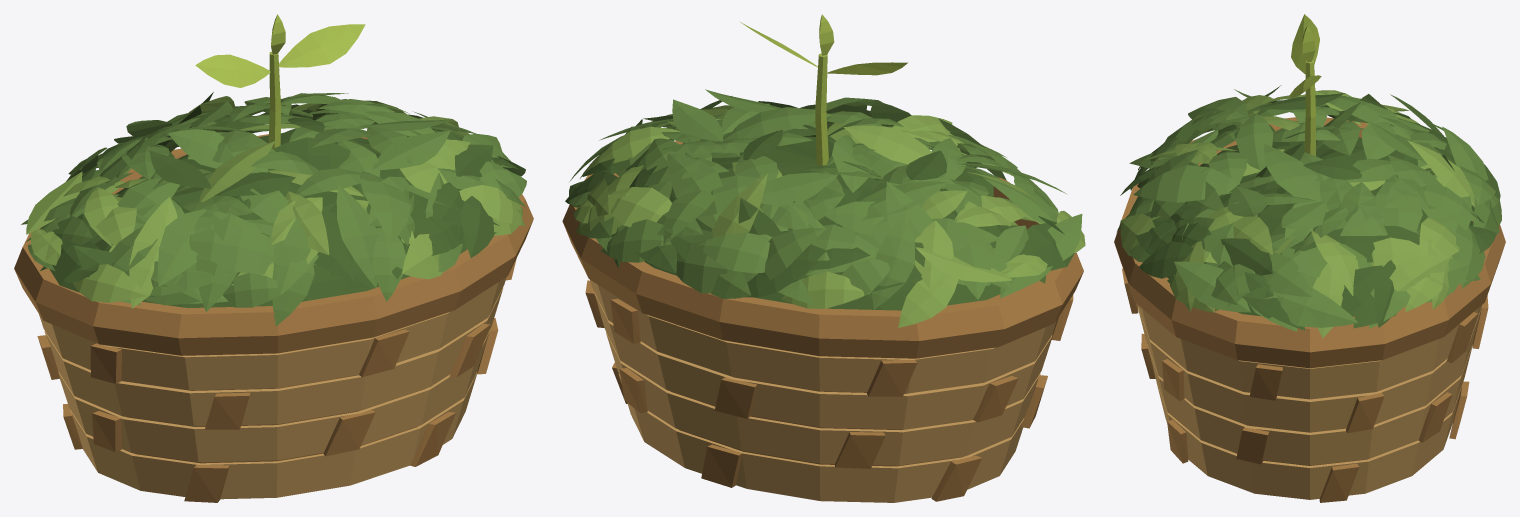
Rendered from KANJI_32_CHA.fbx.
The picture shows the model from 3 angles, left to right: view 1: azimuth 30°, elevation 25°; view 2: azimuth 150°, elevation 25°; view 3: azimuth 270°, elevation 25°; orthographic projection. The views are drawn at different scales.
Visible parts, largest first — view 1: SM_KANJI_32_Cha; view 2: SM_KANJI_32_Cha; view 3: SM_KANJI_32_Cha.
Boxes of the visible parts, x1,y1,x2,y2 form: SM_KANJI_32_Cha: [14, 14, 533, 502]; SM_KANJI_32_Cha: [562, 14, 1085, 502]; SM_KANJI_32_Cha: [1114, 14, 1505, 502].
Bounding box in the file's own units: 0.24 × 0.2 × 0.18.
